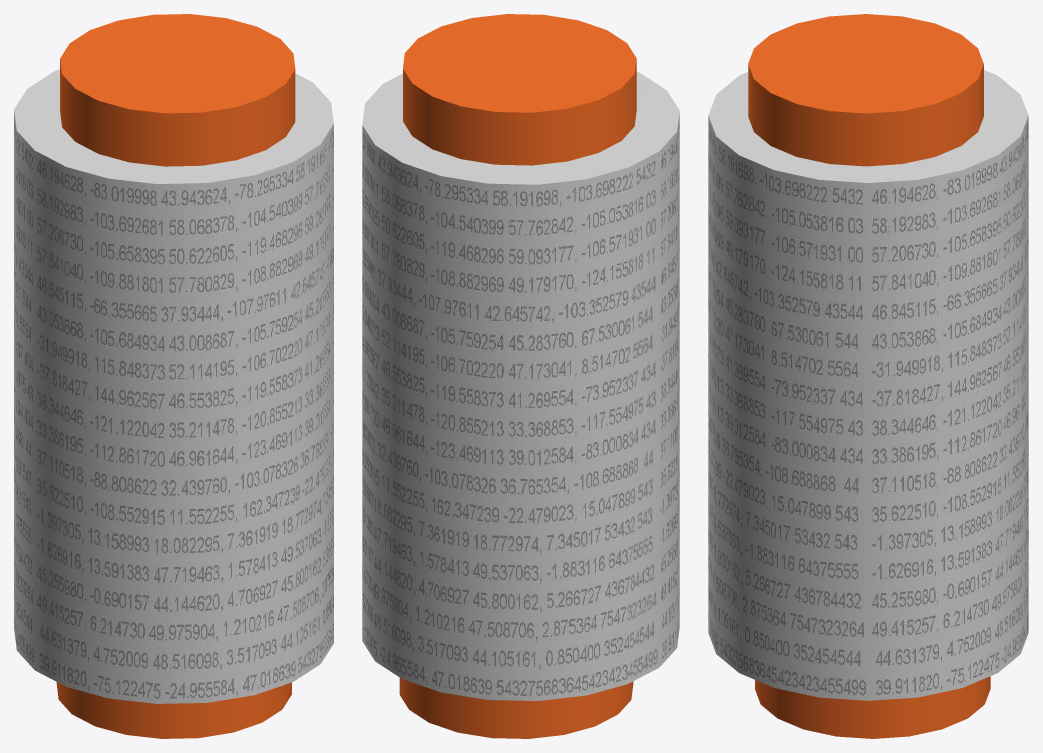
The model's file is cask_v3.obj.
3 renders of one model, left to right at view 1: azimuth 30°, elevation 25°; view 2: azimuth 150°, elevation 25°; view 3: azimuth 270°, elevation 25°, orthographic.
Visible parts, largest first — view 1: group3; view 2: group3; view 3: group3.
Part boxes in pixels (x1,y1,x2,y2): group3: (14,14,333,738); group3: (362,14,679,738); group3: (708,14,1028,738).
Size of the model in its own units: 2 by 4.31 by 2.
Materials: 2 (1 with a texture image).
